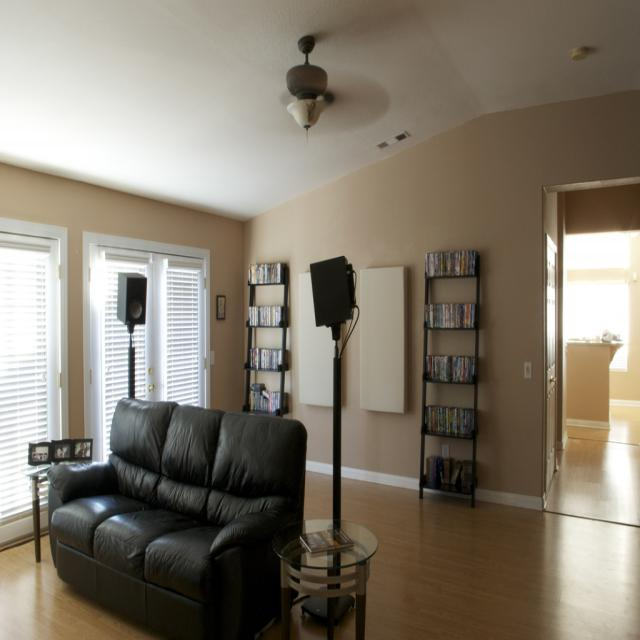Bulb: (225, 36, 392, 143)
